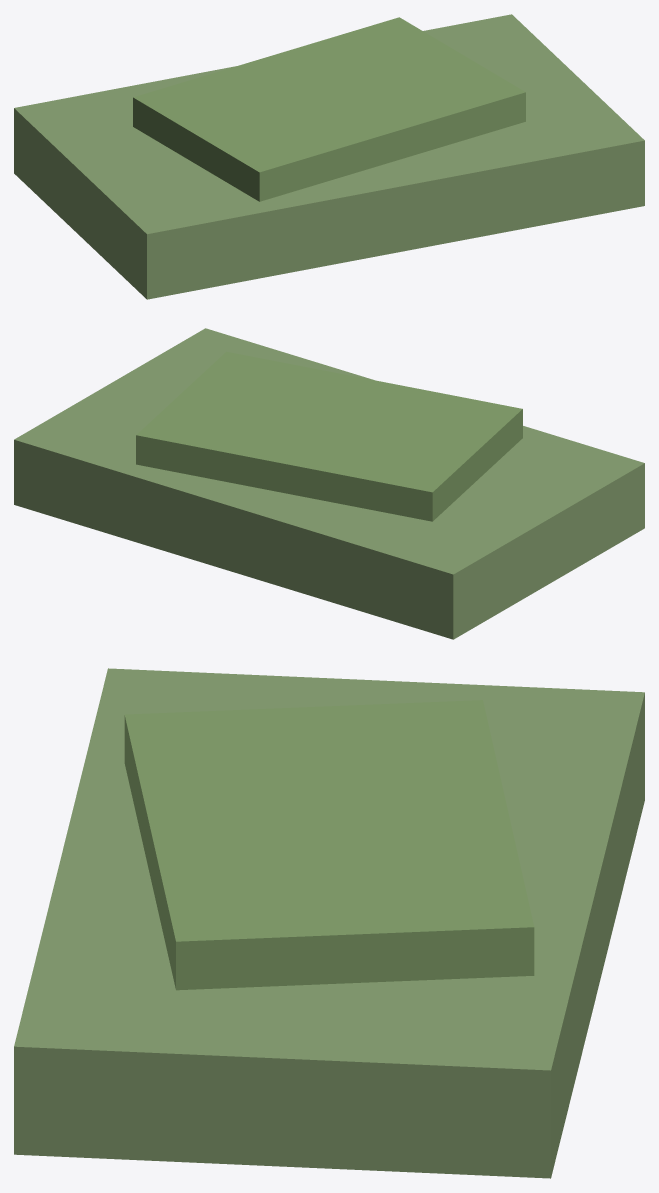
Rendered from structure.glb.
3 renders of one model, top to bottom at view 1: azimuth 30°, elevation 25°; view 2: azimuth 150°, elevation 25°; view 3: azimuth 270°, elevation 25°, orthographic. The views are drawn at different scales.
Parts seen in each view (by area): view 1: Box1, Box2; view 2: Box1, Box2; view 3: Box1, Box2.
Part boxes in pixels (x1,y1,x2,y2): Box1: (14,14,644,299); Box2: (133,17,525,201); Box1: (14,328,644,639); Box2: (136,351,522,521); Box1: (14,668,644,1178); Box2: (124,700,534,990).
Size of the model in its own units: 115 by 20.88 by 76.25.
